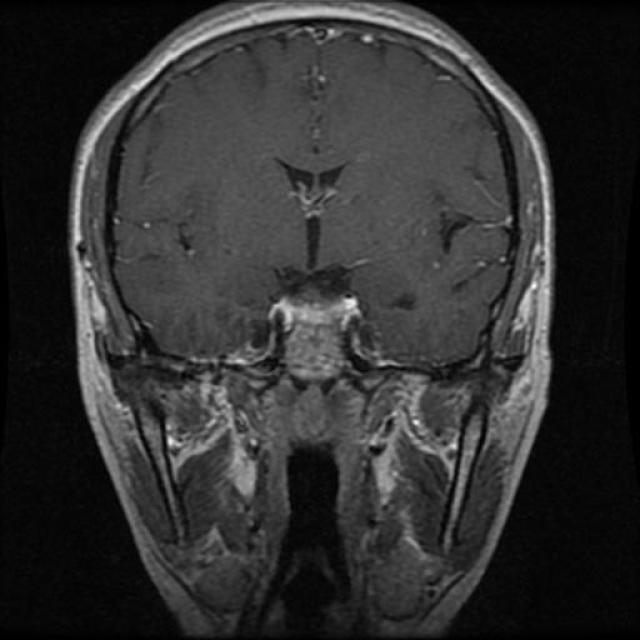pituitary: (268, 278, 376, 378)
